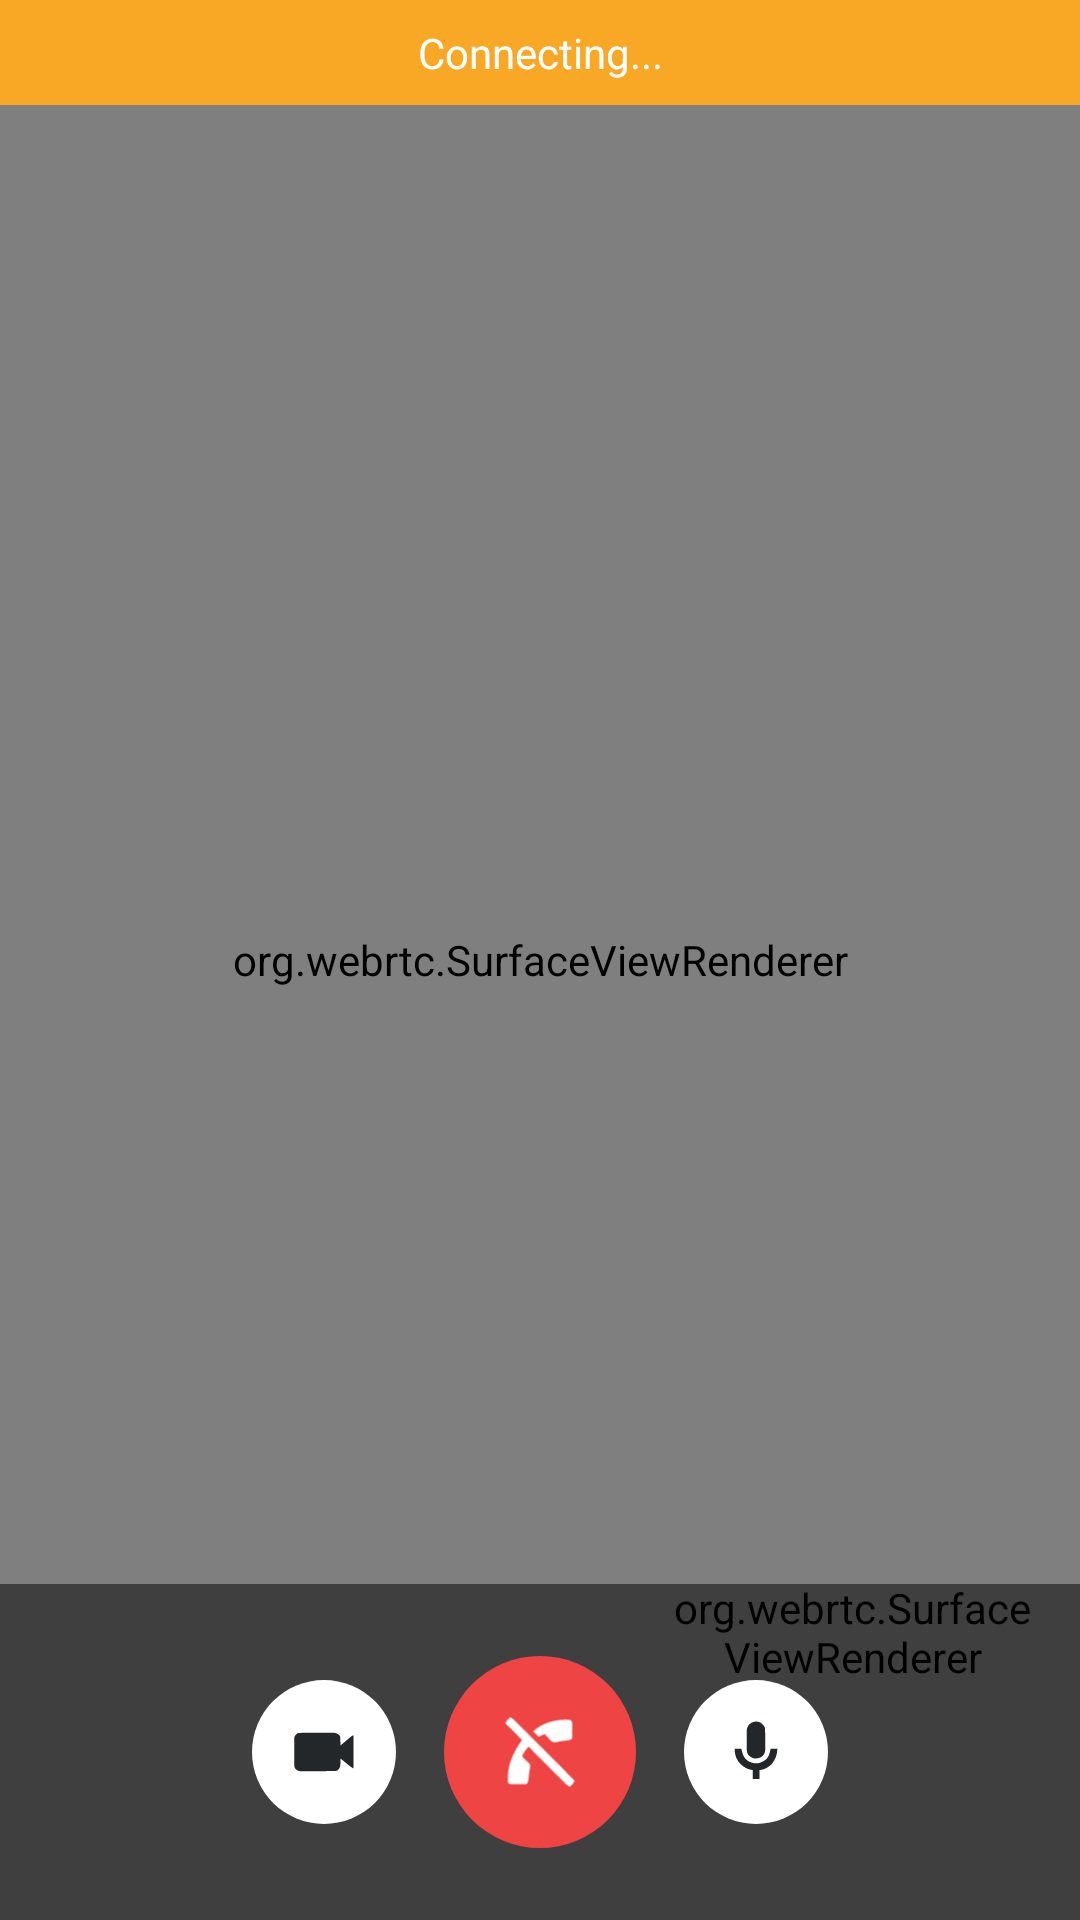

Screen size 1080 × 1920. Icon name, then its center in pixels as (x=x, y=y):
End call: (x=540, y=1752)
Toggle camera: (x=324, y=1752)
Toggle microphone: (x=756, y=1752)
